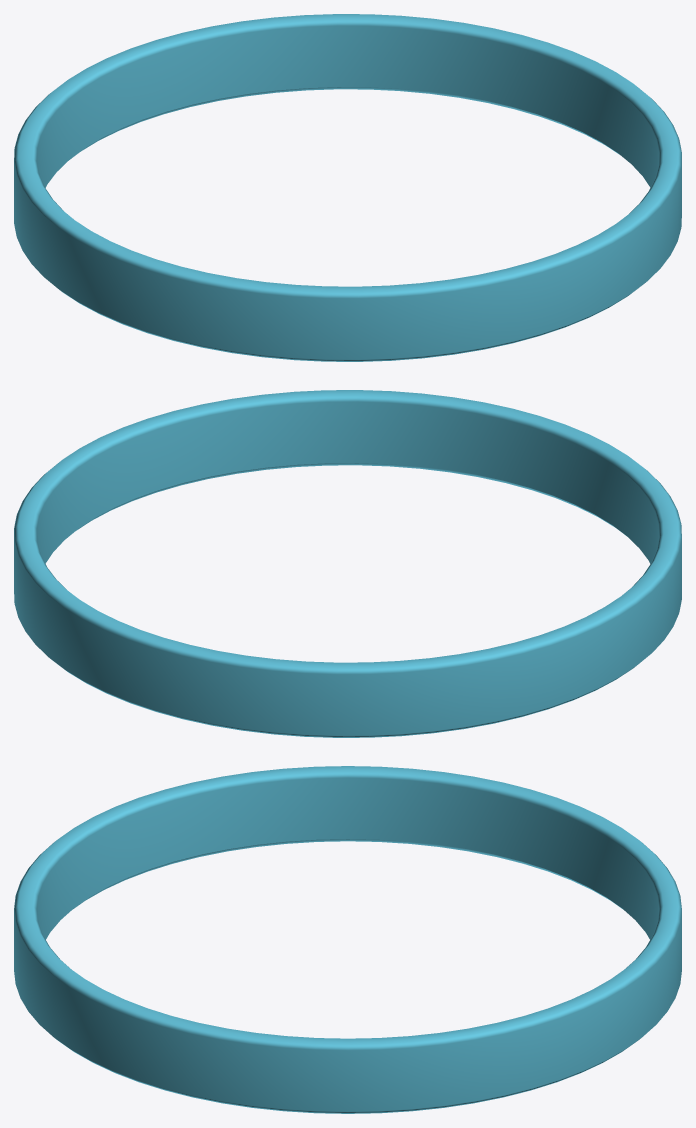
The picture shows the model from 3 angles, top to bottom: view 1: azimuth 30°, elevation 25°; view 2: azimuth 150°, elevation 25°; view 3: azimuth 270°, elevation 25°; orthographic projection.
Parts seen in each view (by area): view 1: seal_body; view 2: seal_body; view 3: seal_body.
Part boxes in pixels (box(x1,y1,x2,y2)): seal_body: box(14, 14, 681, 361); seal_body: box(14, 390, 681, 737); seal_body: box(14, 766, 681, 1113).
Bounding box in the file's own units: 0.1385 × 0.0159 × 0.1385.
